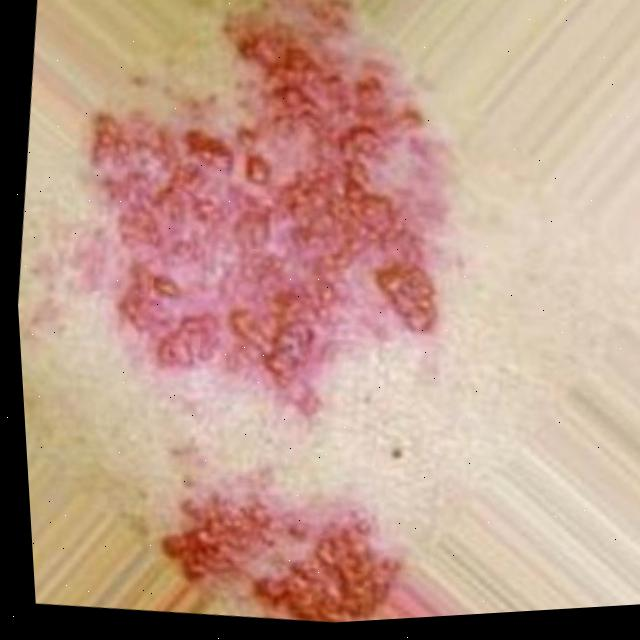Shingles: (53, 0, 491, 446), (148, 468, 421, 633)
